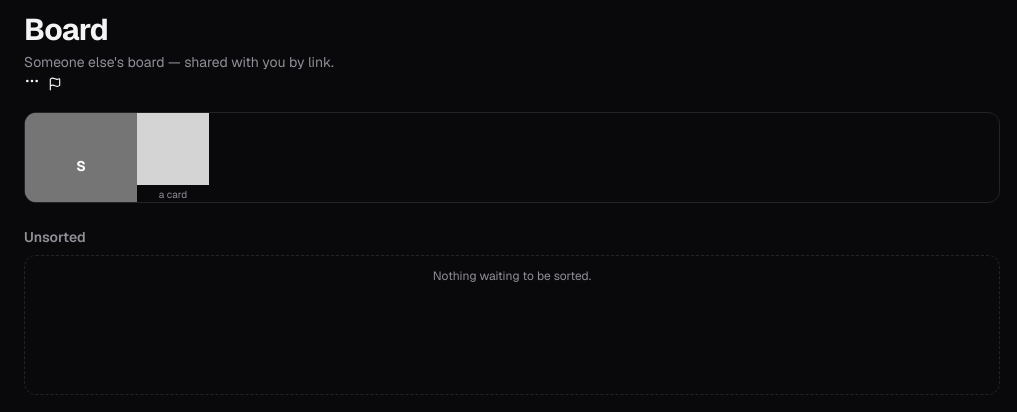
Test: saving a custom board as a picture › is offered to whoever is looking, not only to the owner
Click the button named "more board actions" at (32, 81), box [24,73,40,89]
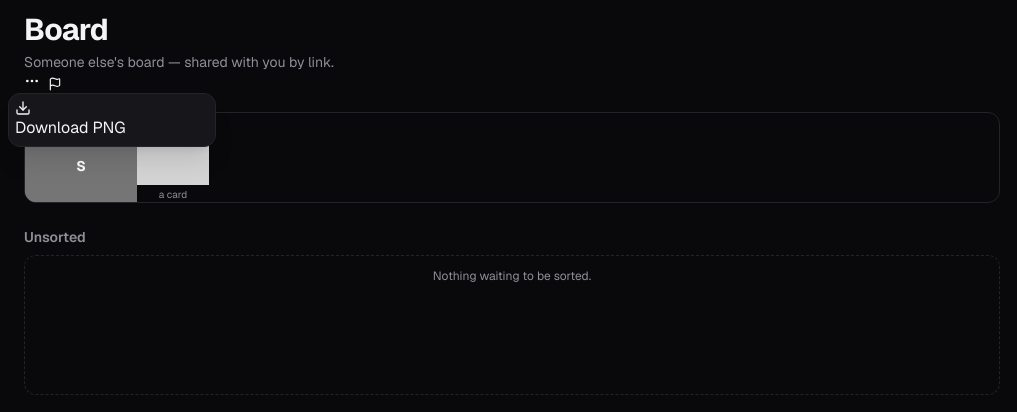
Result: the text "Download PNG" is shown at [15,117,126,138]
